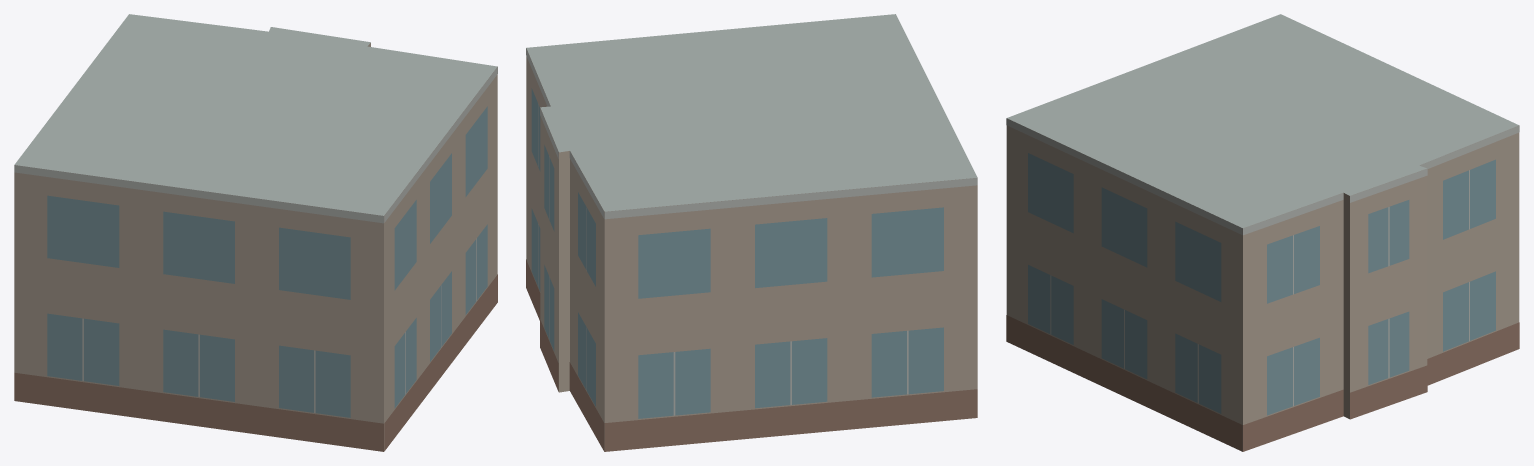
The model's file is survey-upis-32639425.glb.
The picture shows the model from 3 angles, left to right: view 1: azimuth 30°, elevation 25°; view 2: azimuth 150°, elevation 25°; view 3: azimuth 270°, elevation 25°; orthographic projection. The views are drawn at different scales.
Visible parts, largest first — view 1: survey-upis-32639425.tmp; view 2: survey-upis-32639425.tmp; view 3: survey-upis-32639425.tmp.
Boxes of the visible parts, x1,y1,x2,y2 form: survey-upis-32639425.tmp: (14,14,497,451); survey-upis-32639425.tmp: (526,14,977,451); survey-upis-32639425.tmp: (1006,14,1519,451).
Size of the model in its own units: 15.84 by 7.7 by 16.02.
